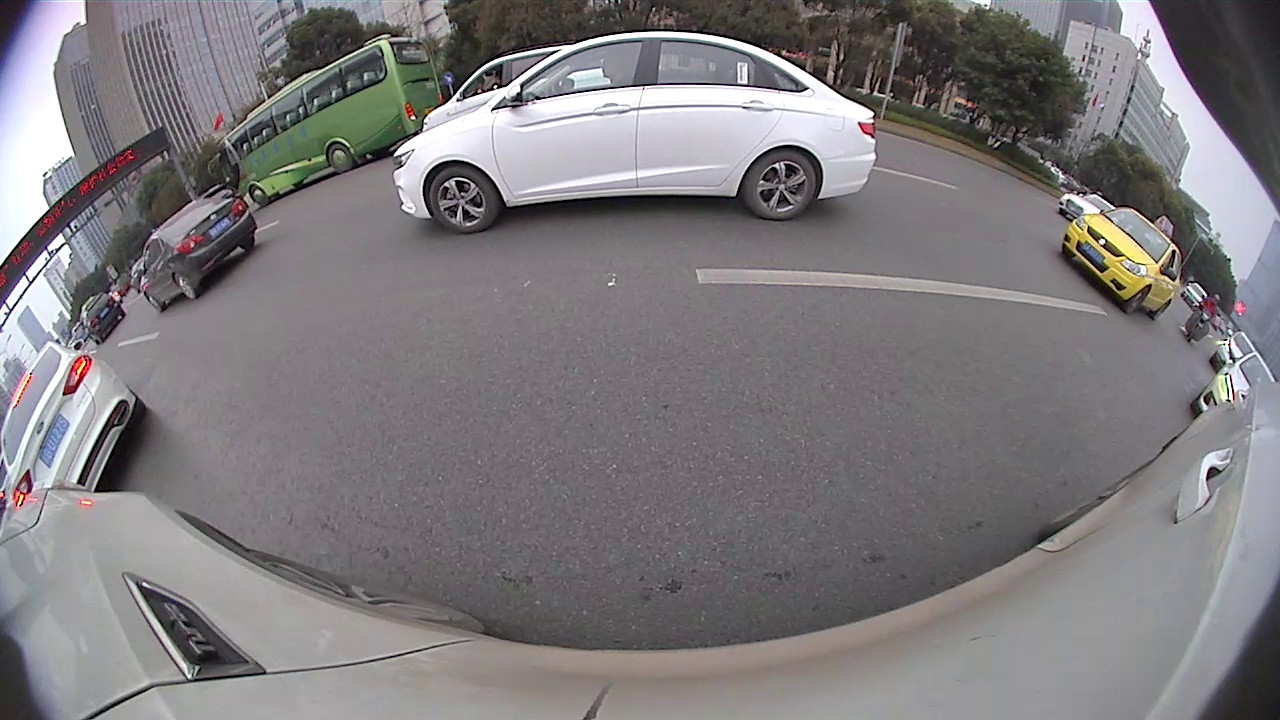bus: (221, 37, 443, 203)
car: (397, 33, 876, 233), (1, 343, 148, 498), (141, 193, 259, 311), (1061, 208, 1182, 318), (423, 48, 576, 130), (1193, 355, 1277, 413), (1211, 331, 1261, 372), (82, 293, 126, 337), (1058, 193, 1113, 218)
front: (427, 164, 498, 234), (1125, 284, 1151, 315), (249, 185, 271, 210), (146, 291, 167, 315)
rear: (742, 148, 813, 224), (326, 143, 356, 176), (172, 273, 198, 302)
rider: (1184, 296, 1221, 343)
